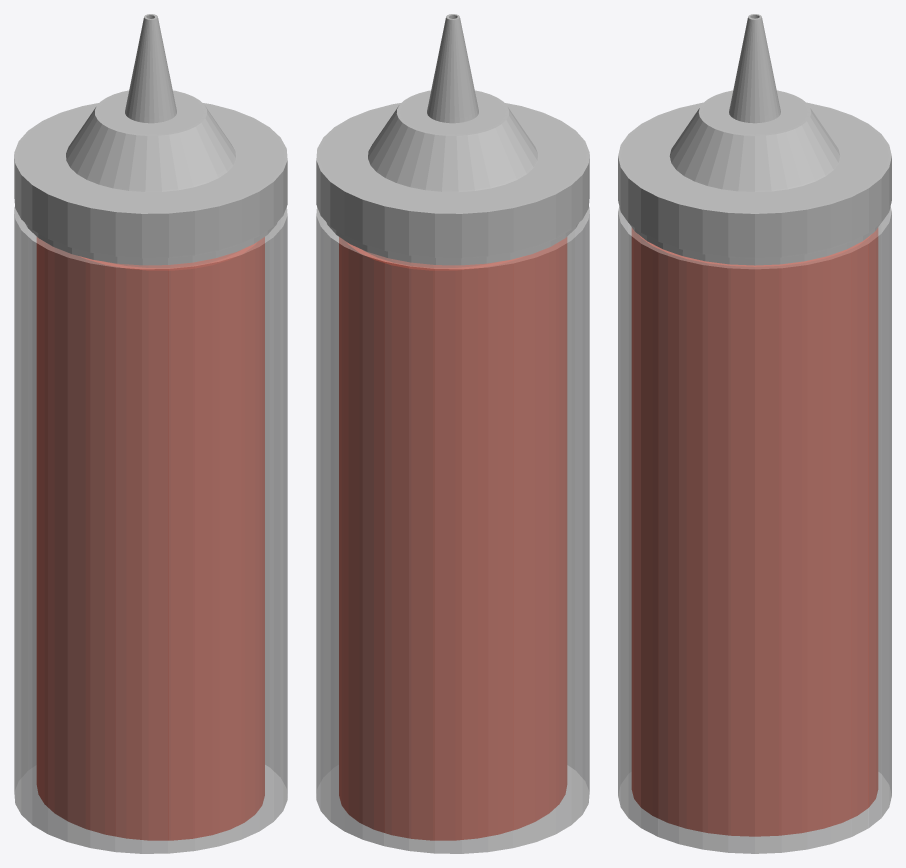
The model's file is sausfles.glb.
The picture shows the model from 3 angles, left to right: view 1: azimuth 30°, elevation 25°; view 2: azimuth 150°, elevation 25°; view 3: azimuth 270°, elevation 25°; orthographic projection.
Visible parts, largest first — view 1: Cylinder, Cylinder.002; view 2: Cylinder, Cylinder.002; view 3: Cylinder, Cylinder.002.
Part boxes in pixels (x1,y1,x2,y2): Cylinder: [14, 14, 287, 853]; Cylinder.002: [37, 237, 264, 840]; Cylinder: [316, 14, 589, 853]; Cylinder.002: [339, 237, 566, 840]; Cylinder: [618, 14, 891, 853]; Cylinder.002: [632, 228, 877, 836].
Size of the model in its own units: 0.5817 by 1.83 by 0.5817.
3 materials, 2 textured.
